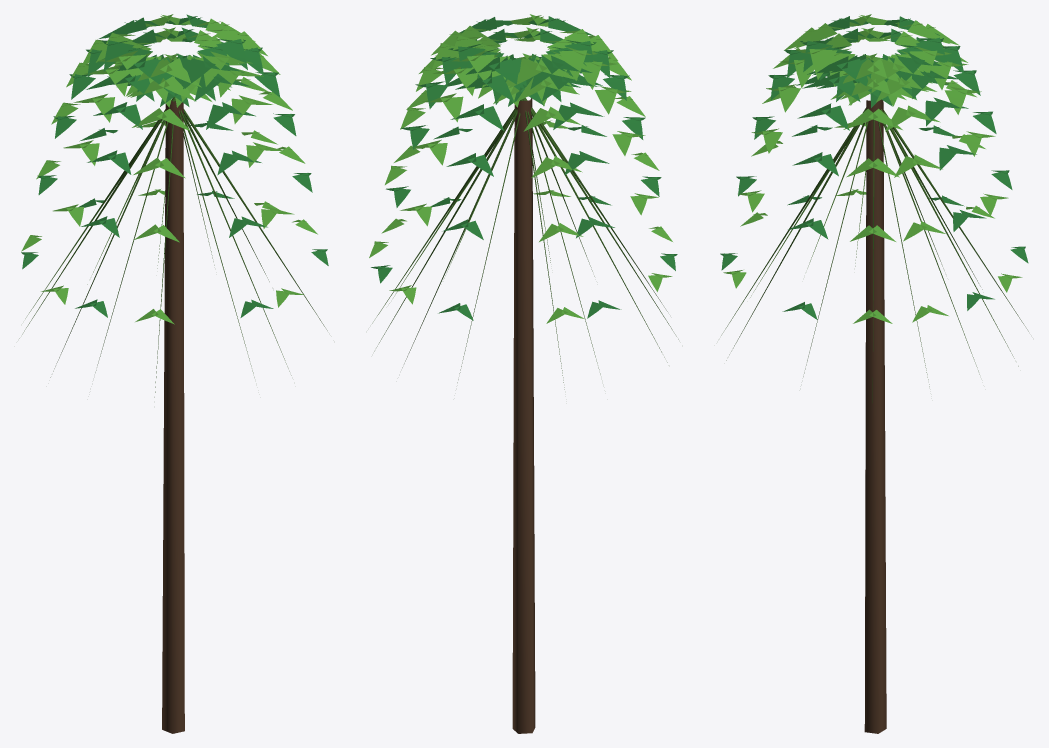
The model's file is plant_tree-fern-b.glb.
3 views of the same model, side by side, from view 1: azimuth 30°, elevation 25°; view 2: azimuth 150°, elevation 25°; view 3: azimuth 270°, elevation 25° (orthographic).
Visible parts, largest first — view 1: plant_tree-fern-b; view 2: plant_tree-fern-b; view 3: plant_tree-fern-b.
Boxes of the visible parts, bbox=[...] form: plant_tree-fern-b: bbox=[19, 14, 328, 733]; plant_tree-fern-b: bbox=[369, 14, 678, 733]; plant_tree-fern-b: bbox=[720, 14, 1028, 733].
Size of the model in its own units: 0.9304 by 2.2 by 0.9327.
